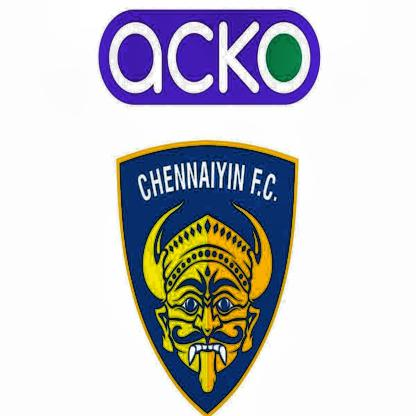ACKO: (99, 9, 320, 105)
